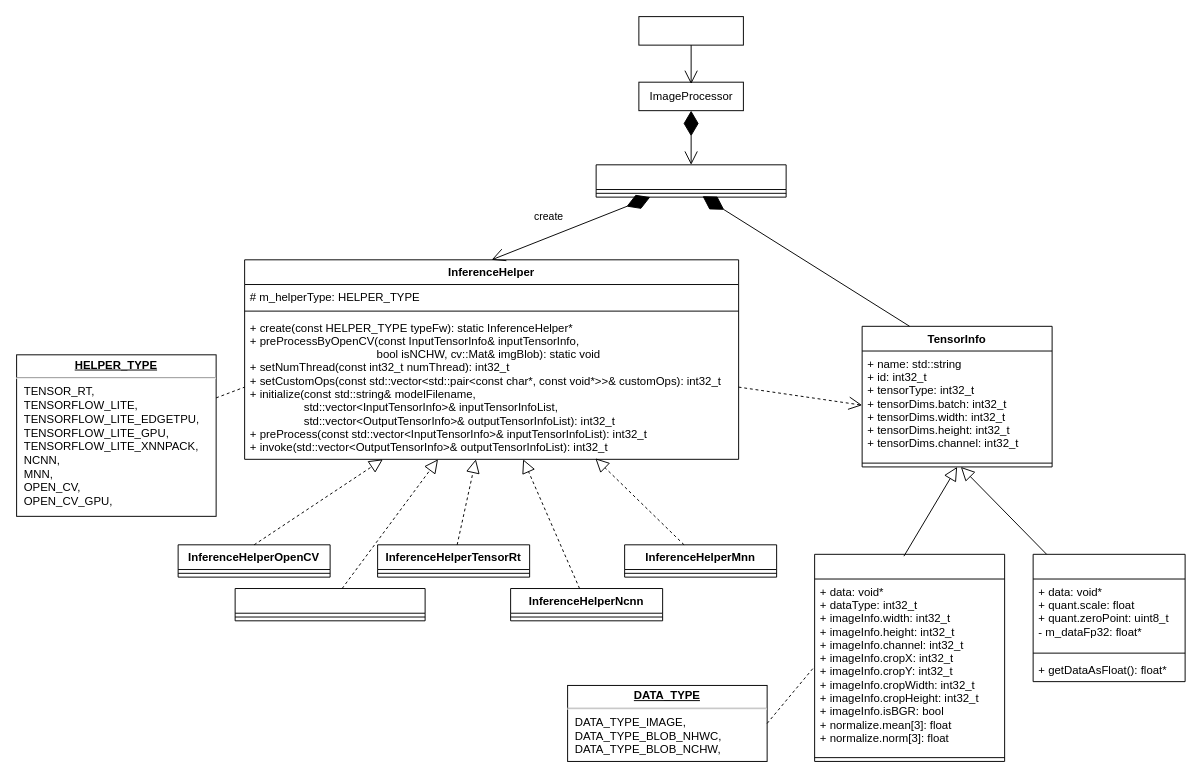
Image size: 1202x778. Some labels were removed from this diagram. Each missing label, with the box of its shape:
ClassificationEngine: (595, 164, 786, 197)
InferenceHelperTensorflowLite: (234, 588, 425, 621)
InputTensorInfo: (814, 553, 1005, 761)
Main: (638, 16, 743, 45)
OutputTensorInfo: (1032, 553, 1185, 682)
